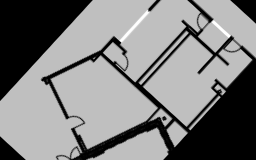door: (62, 109, 87, 135), (114, 52, 135, 73), (223, 38, 243, 59), (191, 11, 211, 31)
double door: (53, 140, 87, 160)
wall: (82, 93, 167, 160), (36, 31, 100, 96), (133, 24, 191, 87), (132, 79, 191, 134), (140, 31, 193, 88), (36, 76, 82, 121), (196, 33, 237, 77), (33, 132, 92, 160), (143, 113, 184, 153), (185, 90, 223, 130), (97, 49, 137, 87), (223, 52, 256, 91), (171, 0, 217, 25), (184, 26, 217, 57), (63, 125, 94, 156), (145, 0, 178, 14), (179, 17, 201, 37), (98, 33, 118, 54), (111, 37, 130, 56), (238, 43, 256, 62), (215, 53, 232, 69), (212, 76, 228, 91), (208, 84, 223, 98), (210, 80, 221, 92)
